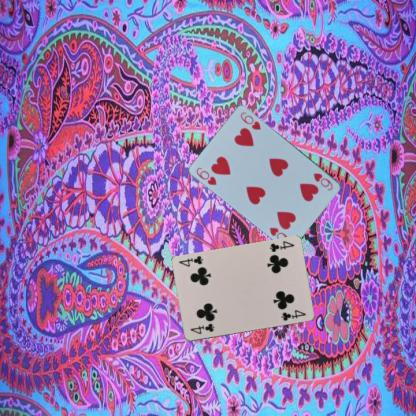4c: (267, 238, 295, 254), (188, 320, 215, 336)
6h: (194, 164, 218, 186), (311, 170, 334, 192)
